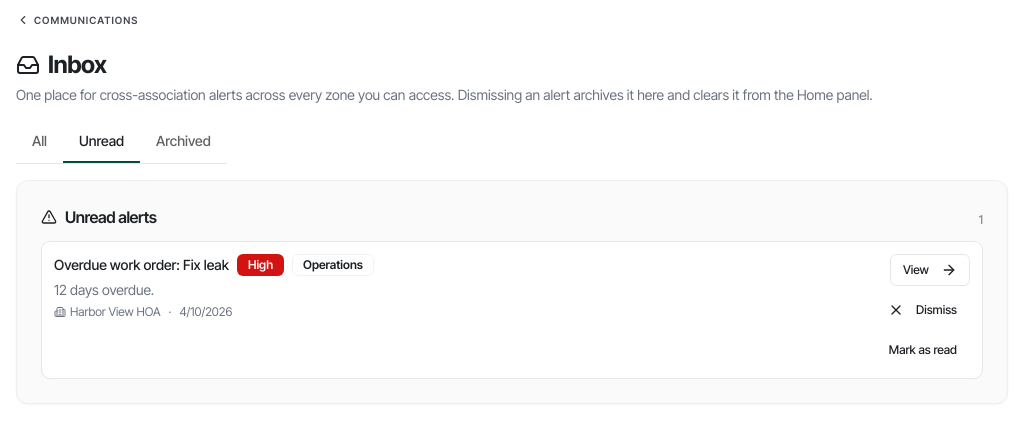
Scenario: CommunicationsInboxPage — Restore mutation › Archived rows render Restore (not Dismiss) — Unread rows render Dismiss
Expected: the button with test id "inbox-alert-dismiss-overdue-work-order:work_orders:wo-live" is shown, [875,294,970,326]
Press the mouse on the tab with test id "inbox-tab-archived" at (183, 142), box [140,121,227,163]
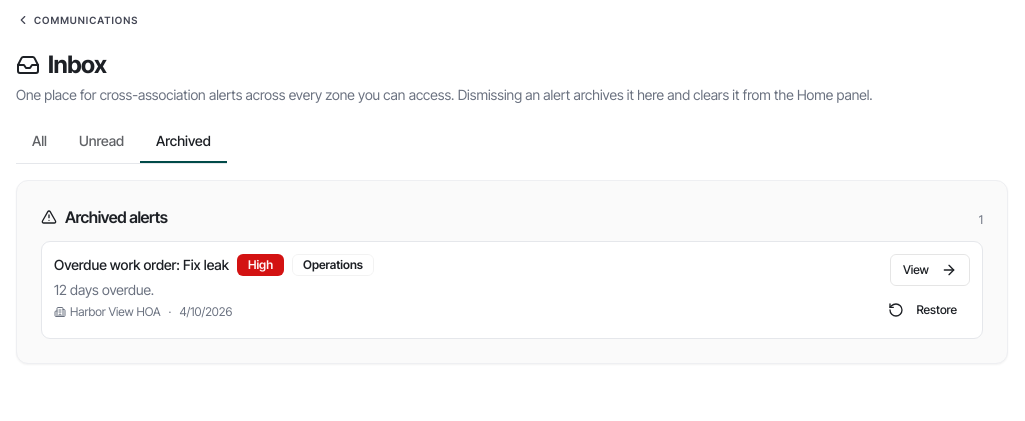
Expected: the button with test id "inbox-alert-restore-overdue-work-order:work_orders:wo-dismissed" is shown, [875,294,970,326]
